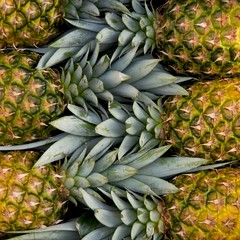Pineapple: (38, 77, 239, 167), (37, 1, 240, 74), (74, 171, 240, 240)
